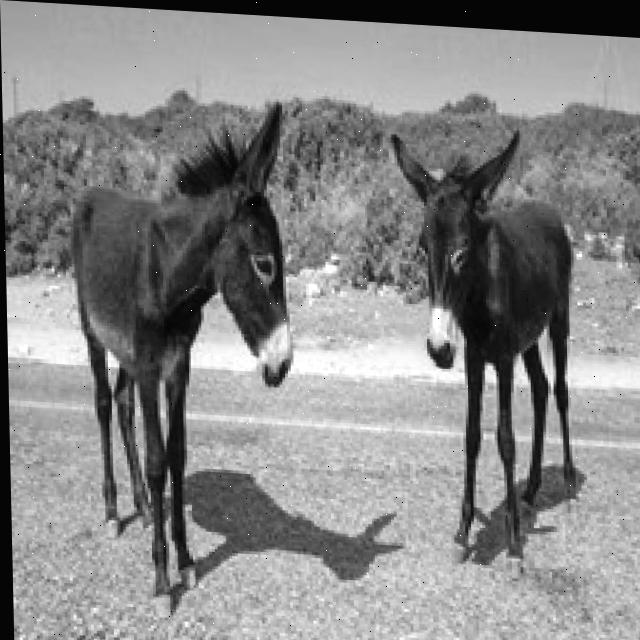Donkey: (65, 86, 299, 605), (388, 120, 581, 582)
